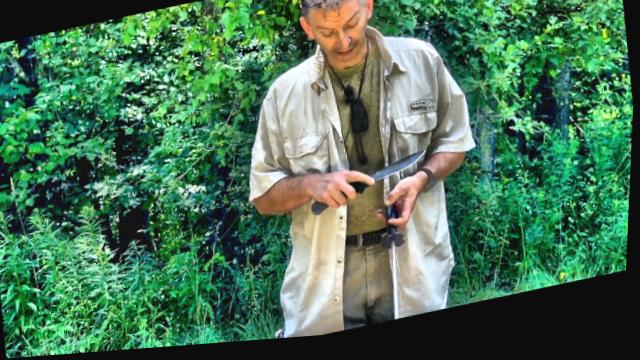knife: (304, 152, 434, 225)
